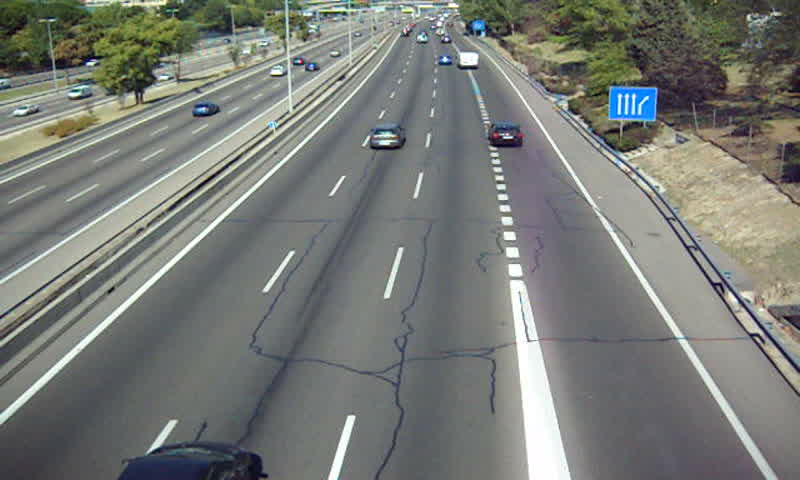car: (368, 123, 405, 150), (486, 123, 524, 147), (436, 53, 453, 66)
van: (456, 52, 479, 70)
